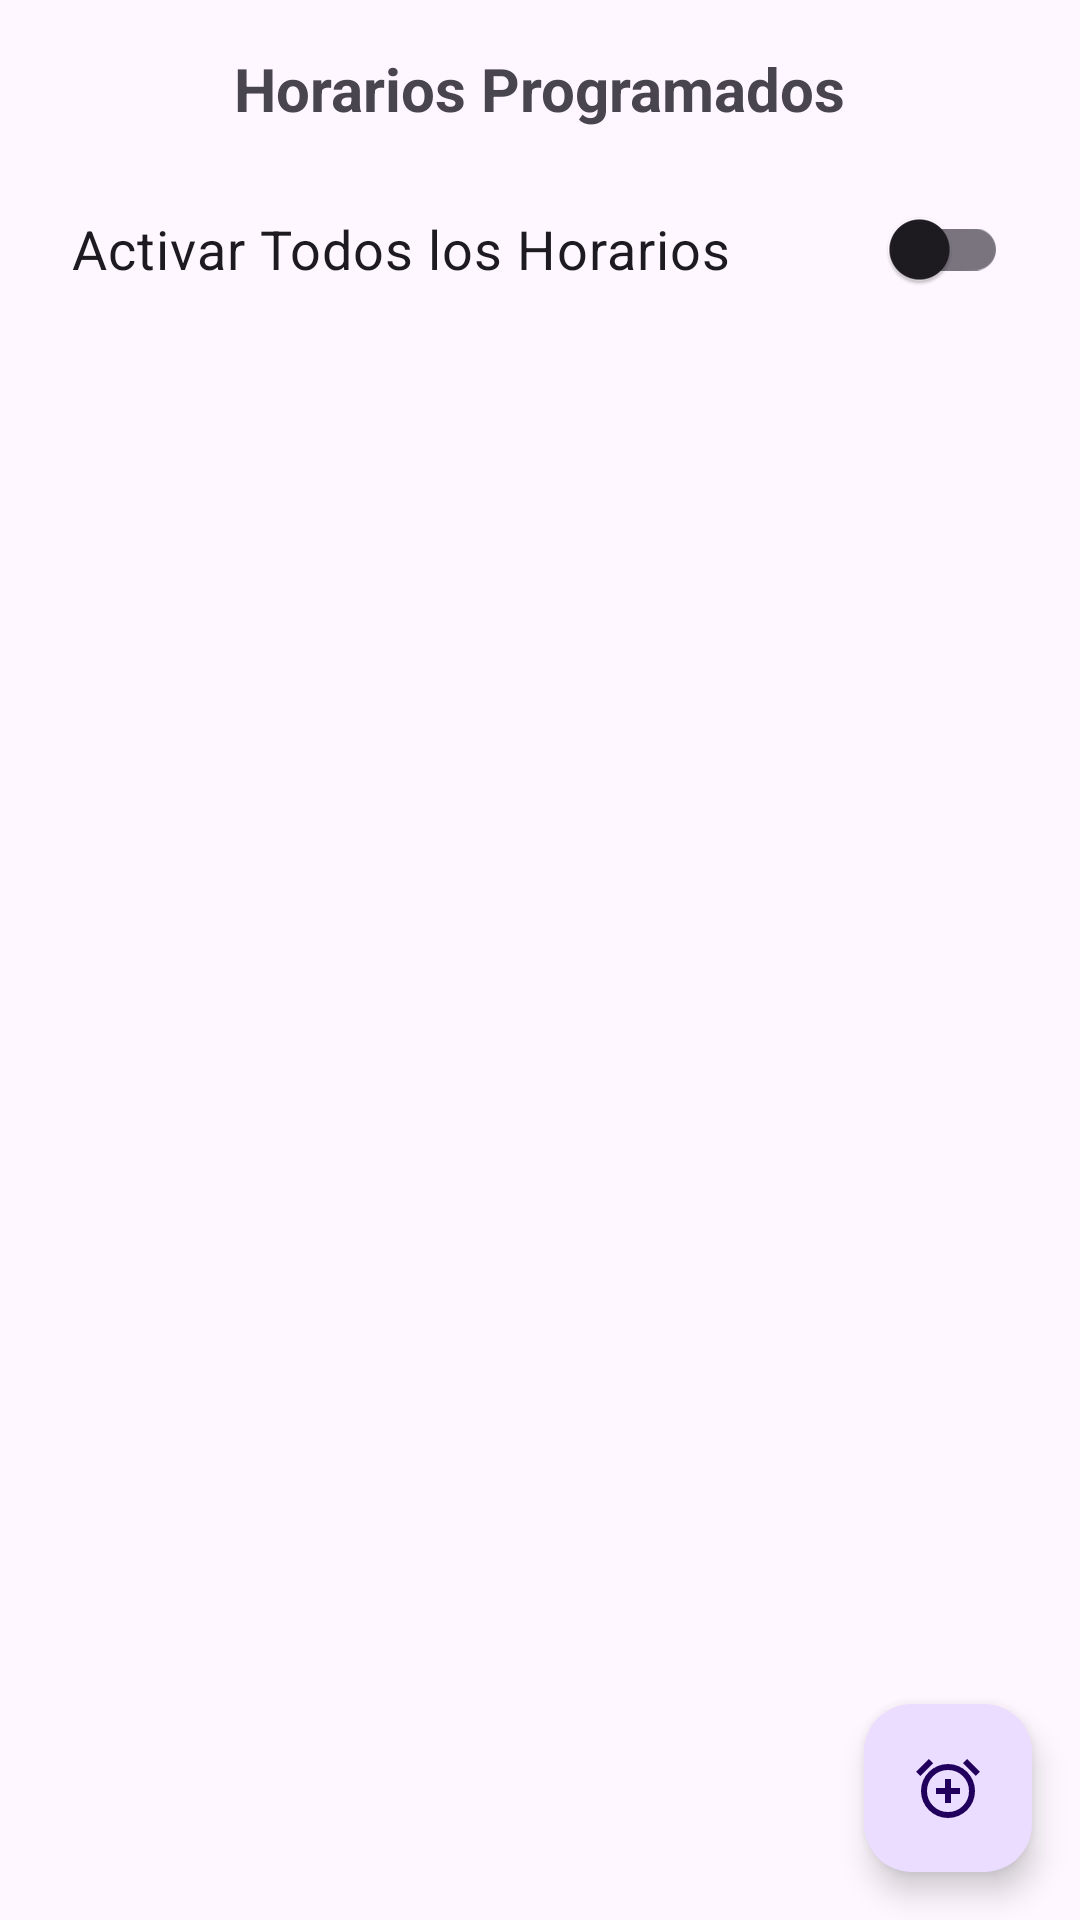

Where to tap for icons on this 1080x1920 app screen, as (x,y):
Añadir nuevo horario: (948,1788)
